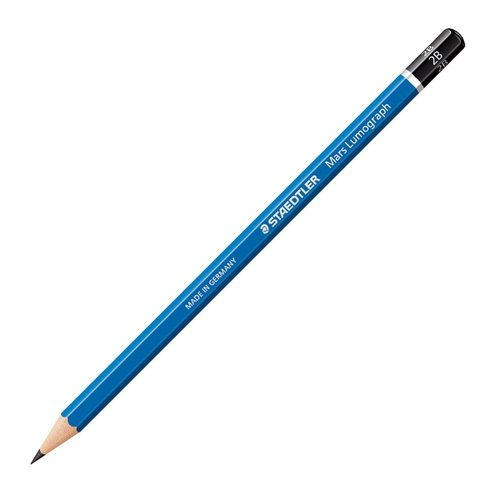pen_tip: (13, 389, 114, 477)
